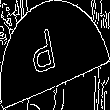P_S: (39, 25, 71, 85)
